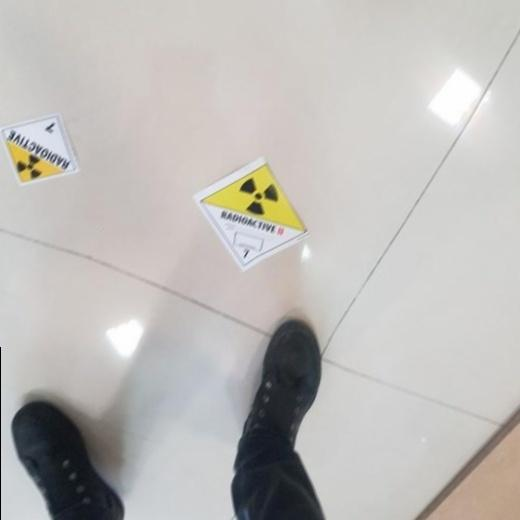radioactive: (193, 146, 310, 276), (1, 108, 81, 187)
